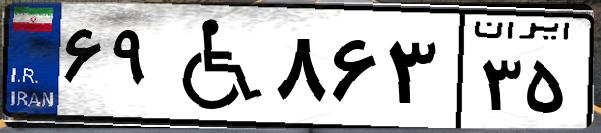3: (385, 28, 445, 110), (475, 38, 525, 113)
5: (525, 38, 570, 115)
6: (330, 28, 385, 110), (57, 26, 110, 100)
8: (270, 28, 330, 110)
9: (110, 28, 158, 98)
ژ (معلولین و جانبازان): (158, 12, 270, 120)
